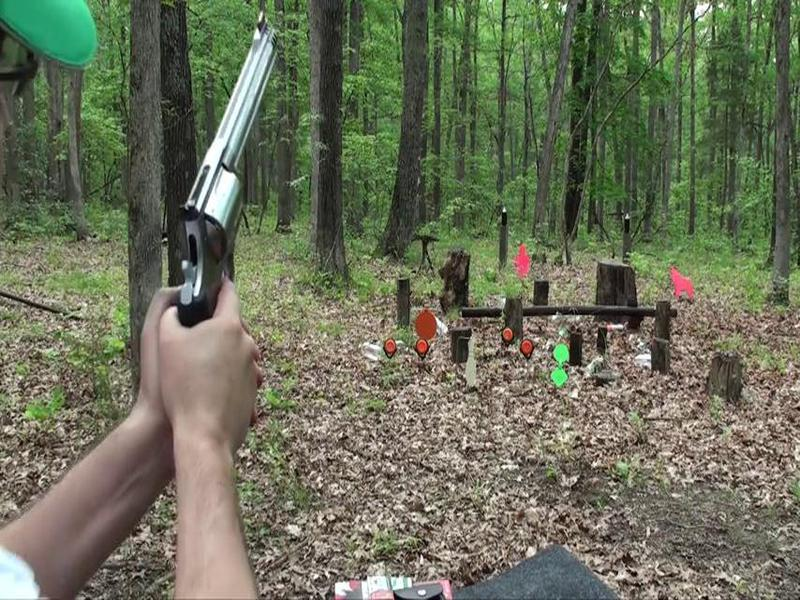Revolver: (137, 31, 310, 377)
